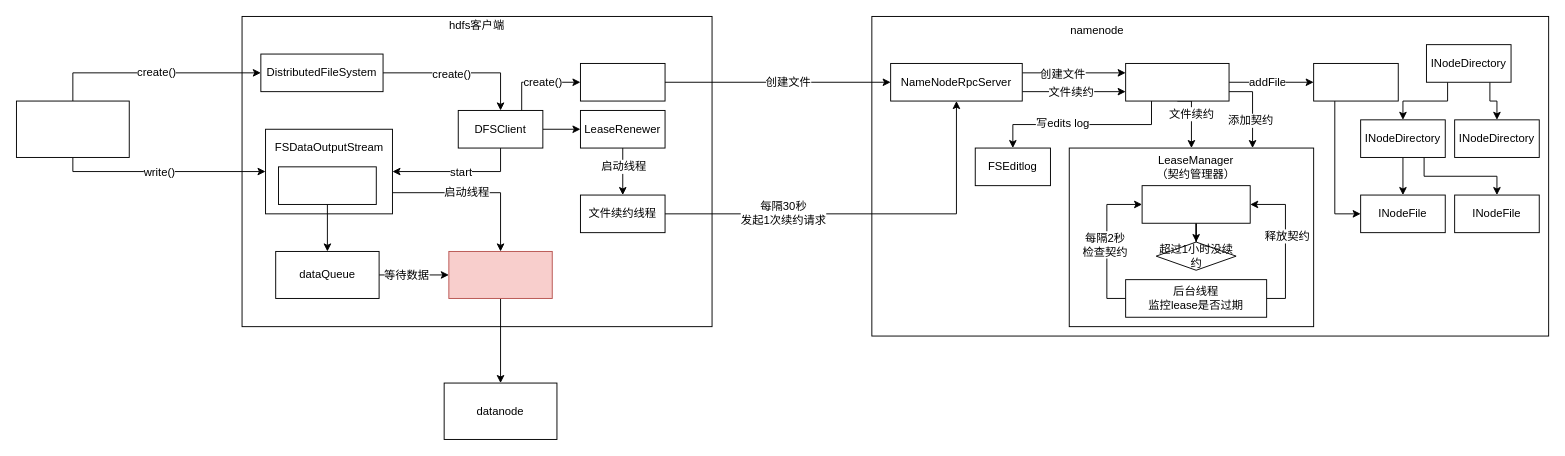
This 1565x456 diagram has some shape labels left out. Here are the shapes that lost their labels. From the top down, the centre of each, then its label:
At (x=622, y=82): "ClientProtocol （rpc代理）".
At (x=1177, y=82): "FSNamesystem".
At (x=1355, y=82): "FSDirectory".
At (x=72, y=128): "应用系统".
At (x=327, y=185): "DFSOutputStream".
At (x=1195, y=204): "Lease数据结构 （可排序）".
At (x=500, y=274): "DataStreamer (核心线程)".
